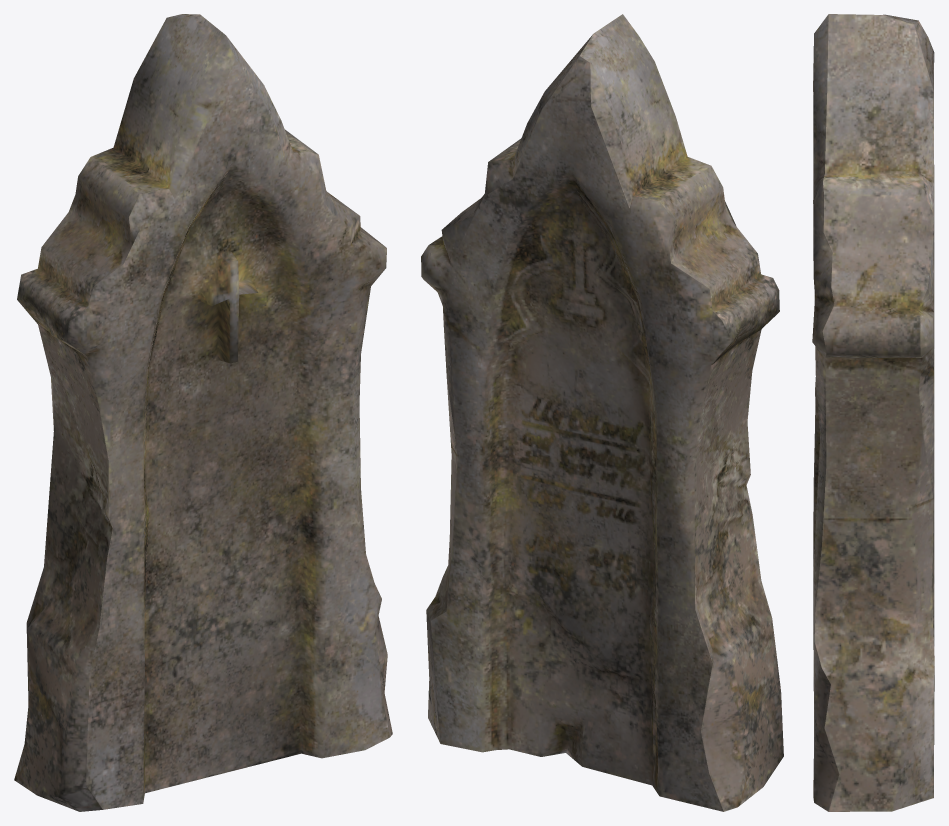
Rendered from SM_TombStone09.FBX.
The picture shows the model from 3 angles, left to right: view 1: azimuth 30°, elevation 25°; view 2: azimuth 150°, elevation 25°; view 3: azimuth 270°, elevation 25°; orthographic projection. The views are drawn at different scales.
Visible parts, largest first — view 1: SM_TombStone09; view 2: SM_TombStone09; view 3: SM_TombStone09.
Boxes of the visible parts, x1=… form: SM_TombStone09: x1=14, y1=14, x2=392, y2=811; SM_TombStone09: x1=421, y1=14, x2=783, y2=811; SM_TombStone09: x1=812, y1=14, x2=934, y2=811.
Bounding box in the file's own units: 98.82 × 32.26 × 210.
